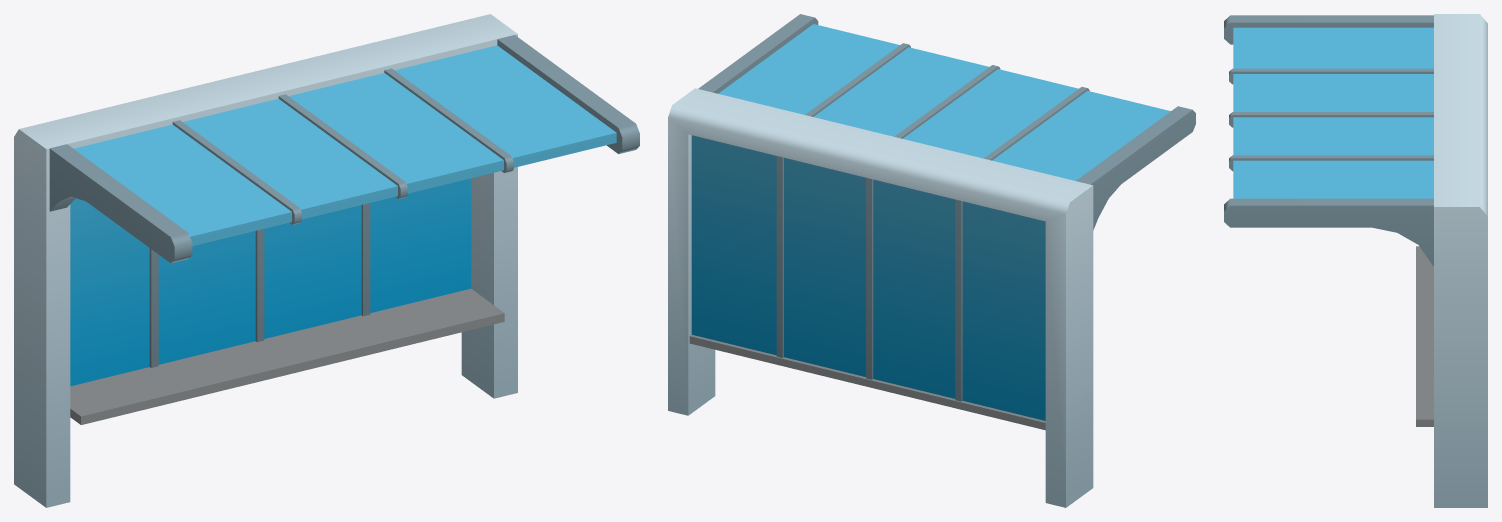
Rendered from city2-bus-stop-01.glb.
3 views of the same model, side by side, from view 1: azimuth 30°, elevation 25°; view 2: azimuth 150°, elevation 25°; view 3: azimuth 270°, elevation 25° (orthographic). The views are drawn at different scales.
Parts seen in each view (by area): view 1: Bus_Stop_01; view 2: Bus_Stop_01; view 3: Bus_Stop_01.
Boxes of the visible parts, x1=… form: Bus_Stop_01: x1=14, y1=14, x2=639, y2=507; Bus_Stop_01: x1=668, y1=14, x2=1195, y2=507; Bus_Stop_01: x1=1224, y1=14, x2=1487, y2=507.
Bounding box in the file's own units: 3.44 × 2.5 × 1.98.
2 materials, 2 textured.
